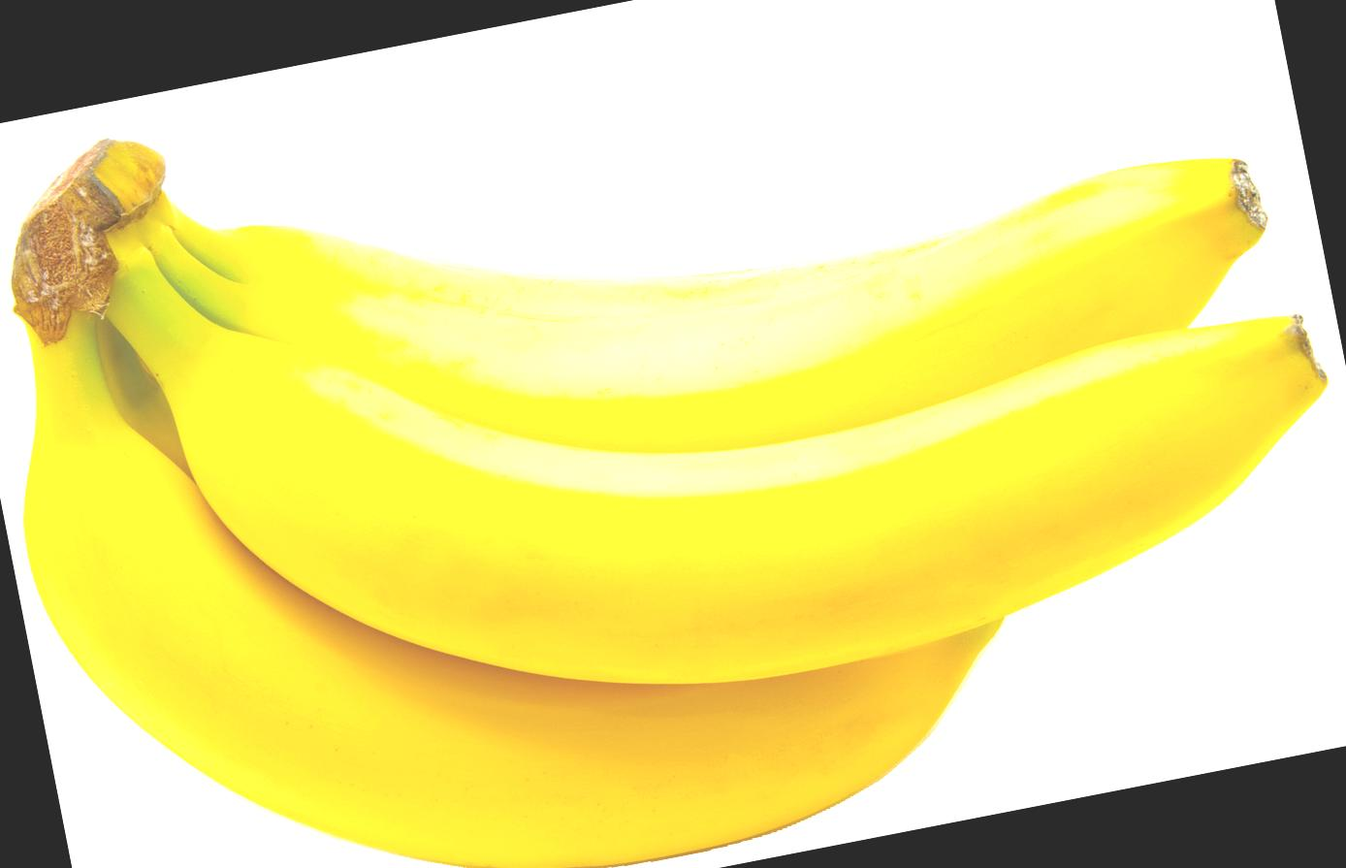Banana Ripe: (0, 32, 1346, 868)
